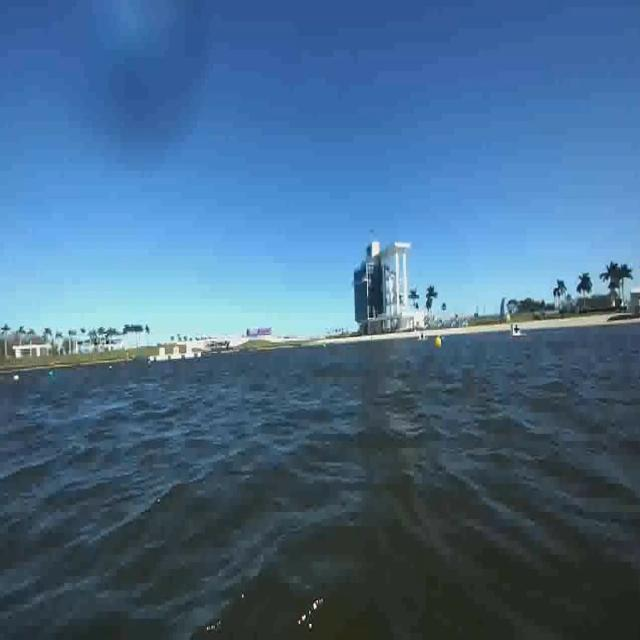yellow-buoy: (434, 336, 442, 351)
